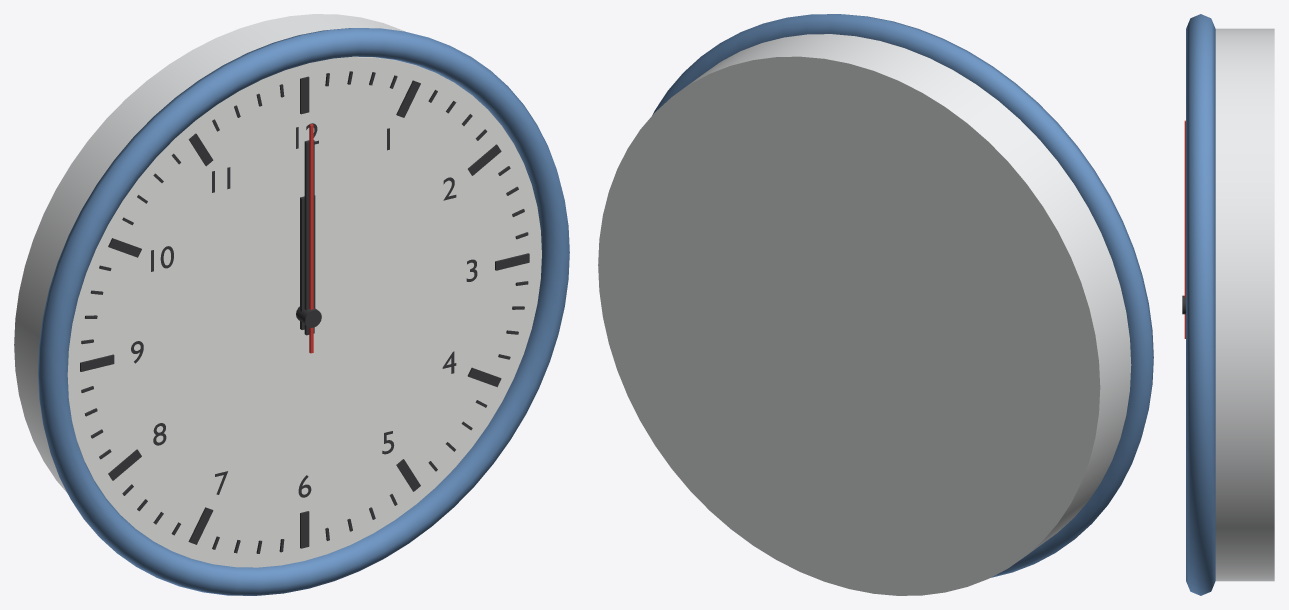
Rendered from horloge.glb.
3 views of the same model, side by side, from view 1: azimuth 30°, elevation 25°; view 2: azimuth 150°, elevation 25°; view 3: azimuth 270°, elevation 25° (orthographic). The views are drawn at different scales.
Parts seen in each view (by area): view 1: horloge, Aiguille_M, Aiguille_S, Aiguille_H; view 2: horloge; view 3: horloge, Aiguille_S.
Part boxes in pixels (x1,y1,x2,y2): horloge: (14,14,569,595); Aiguille_M: (304,140,314,335); Aiguille_S: (309,124,313,353); Aiguille_H: (300,195,315,329); horloge: (598,14,1153,595); horloge: (1182,14,1274,595); Aiguille_S: (1184,120,1185,338).
Bounding box in the file's own units: 0.316 × 0.316 × 0.05.
